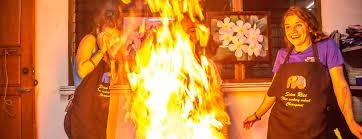fire: (122, 0, 225, 139), (282, 6, 311, 51)
